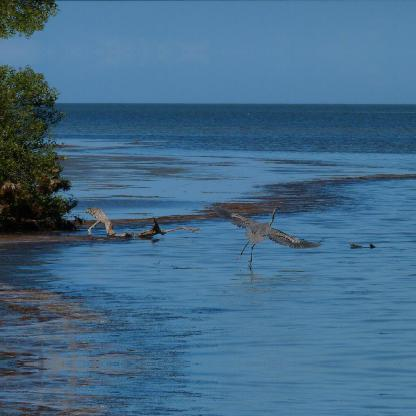Bird: (210, 206, 315, 258)
